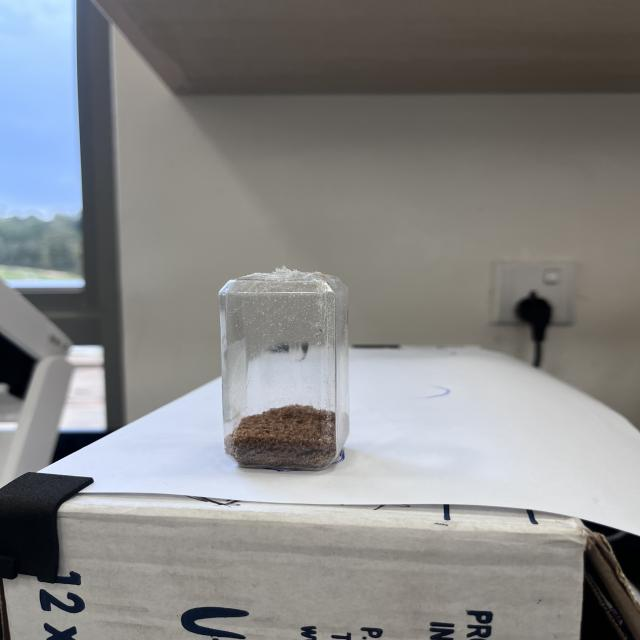maggie_open: (226, 405, 348, 472)
